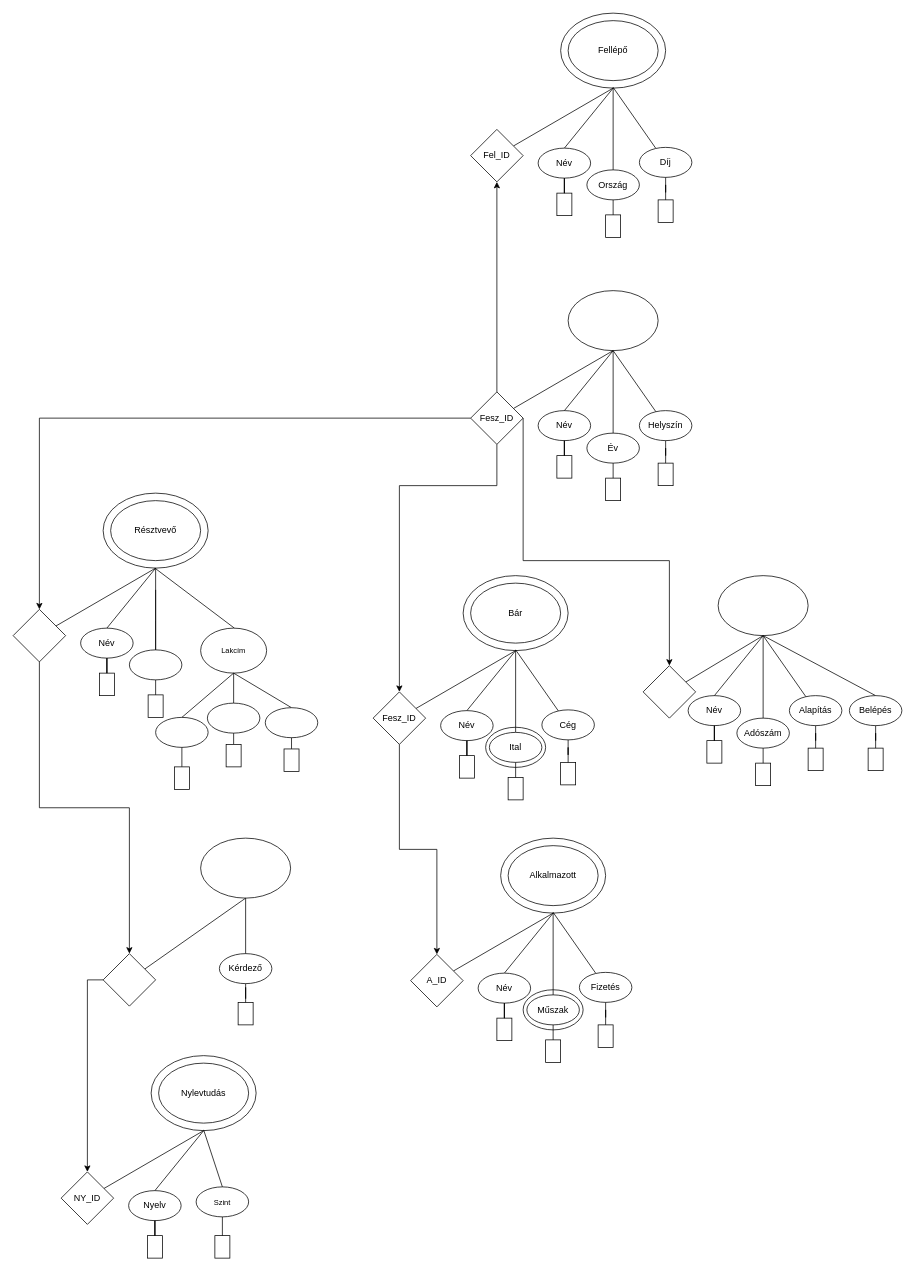
This 915x1284 diagram has some shape labels left out. The centre of each missing label's shape, as x and y in pixels:
"Diákigazolvány" goes at [155,664].
"Fesztivál" goes at [612,320].
"Házszám" goes at [291,722].
"K_ID" goes at [129,979].
"Közvélemény" goes at [245,867].
"R_ID" goes at [39,635].
"T_ID" goes at [669,691].
"Település" goes at [233,717].
"Tulajdonos" goes at [762,605].
"Utca" goes at [181,732].
